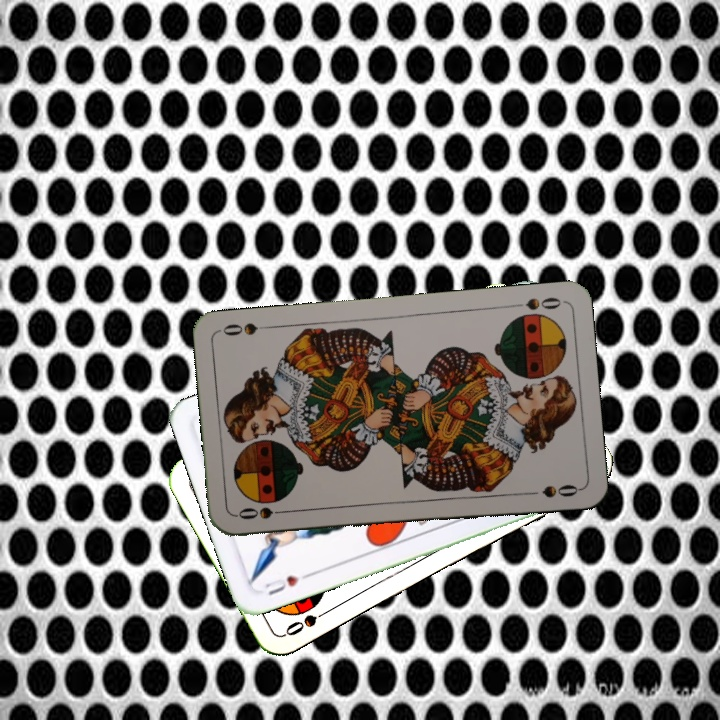HU: (260, 569, 313, 598)
SO: (281, 603, 335, 639), (233, 502, 292, 522), (506, 293, 564, 313)
